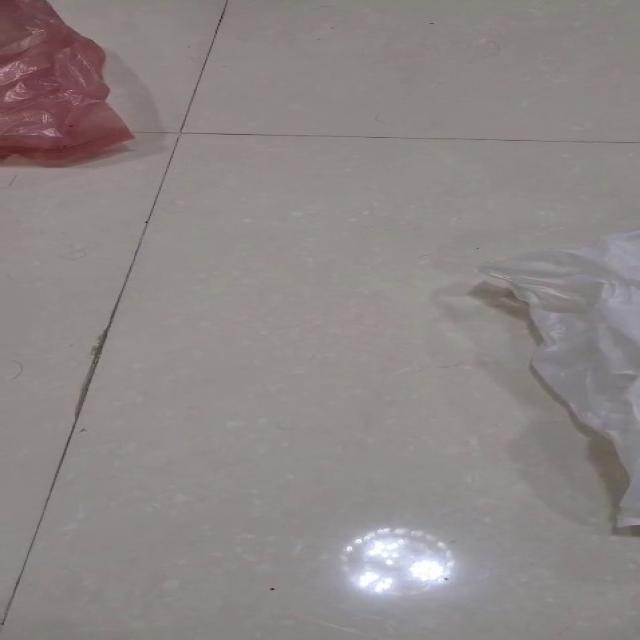plastic: (471, 229, 639, 533), (0, 0, 135, 164)
